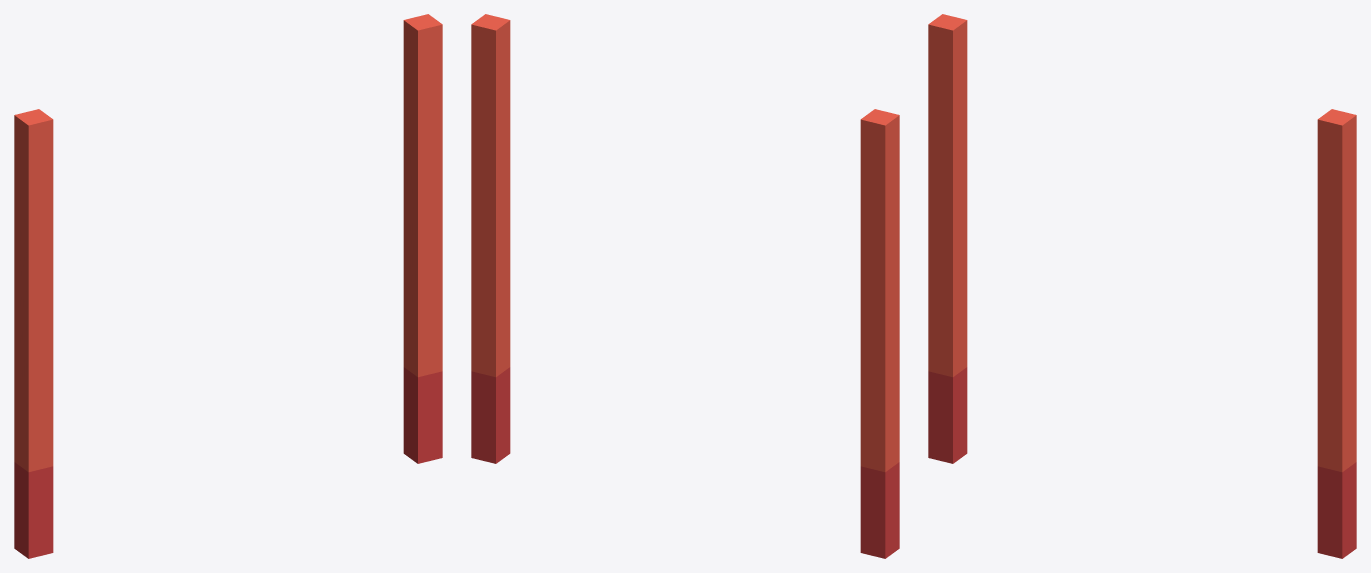
Rendered from building_column2.obj.
The picture shows the model from 3 angles, left to right: view 1: azimuth 30°, elevation 25°; view 2: azimuth 150°, elevation 25°; view 3: azimuth 330°, elevation 25°; orthographic projection.
Parts seen in each view (by area): view 1: mergedBlocks; view 2: mergedBlocks; view 3: mergedBlocks.
Part boxes in pixels (left/top/right/bottom): mergedBlocks: left=14, top=14, right=442, bottom=558; mergedBlocks: left=471, top=14, right=899, bottom=558; mergedBlocks: left=928, top=14, right=1356, bottom=558.
Bounding box in the file's own units: 1 × 1 × 0.06.
